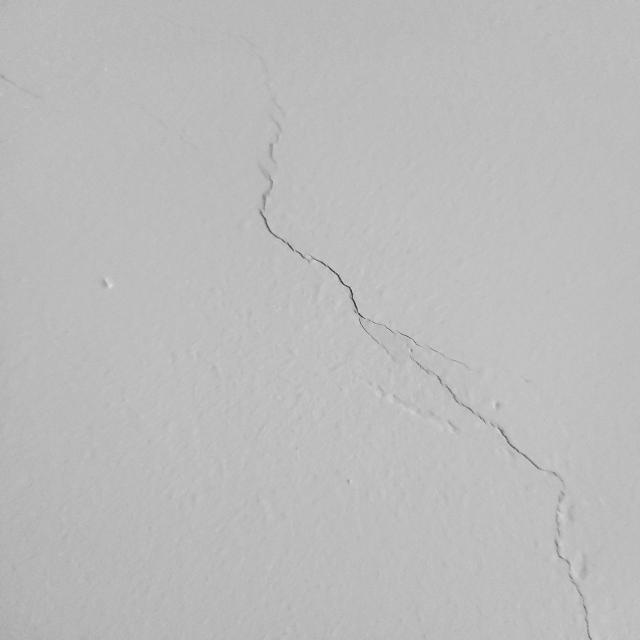rough and patchy surface: (22, 348, 635, 600), (0, 64, 47, 110)
